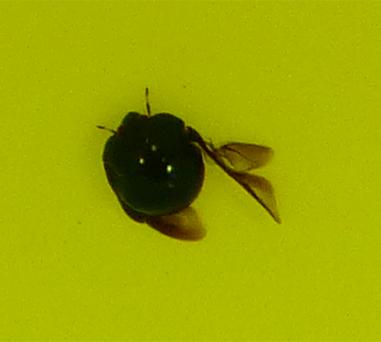Coleoptera: (100, 100, 281, 242)
